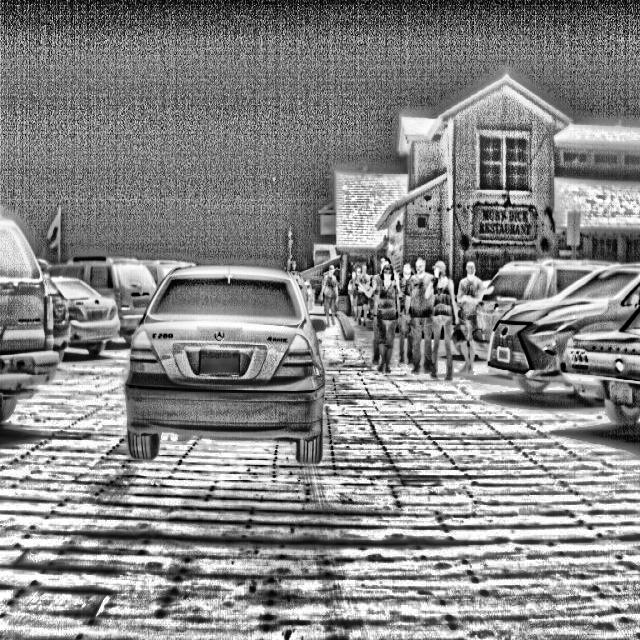car: (125, 215, 342, 480), (1, 197, 116, 404), (497, 250, 640, 415), (486, 246, 612, 346), (55, 241, 149, 334)
person and bycle: (426, 255, 462, 382), (455, 252, 487, 381), (372, 258, 406, 375), (408, 256, 440, 374), (317, 258, 348, 342), (349, 267, 379, 350)
